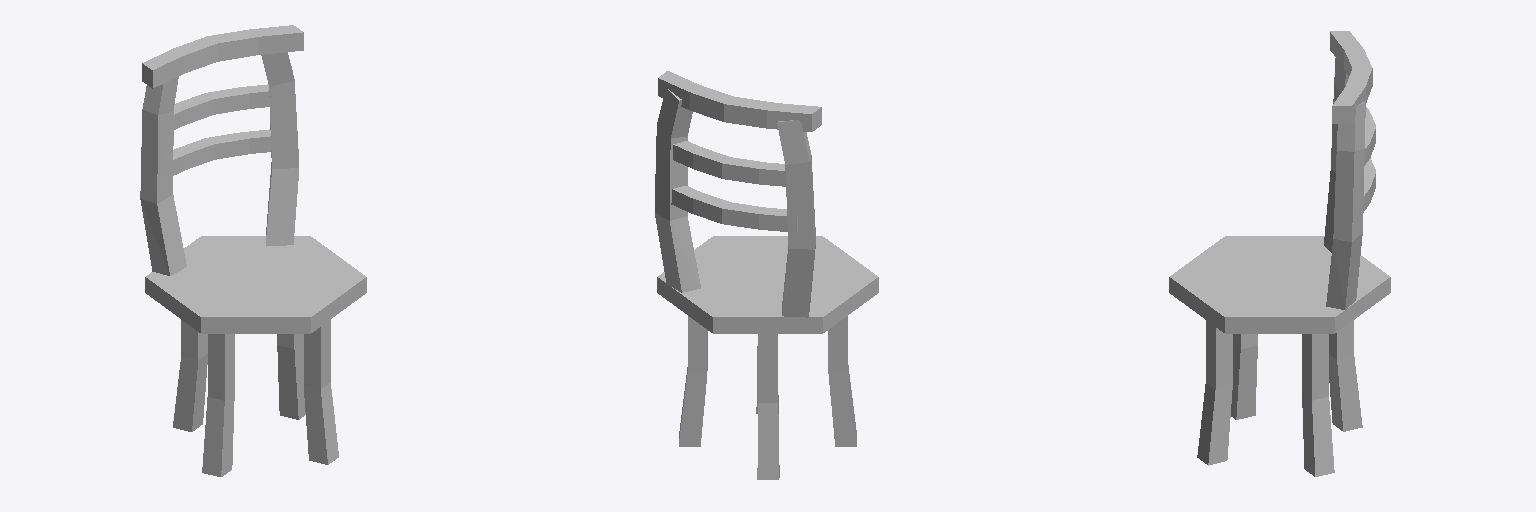
File: Chair.obj
The picture shows the model from 3 angles: view 1: azimuth 30°, elevation 25°; view 2: azimuth 150°, elevation 25°; view 3: azimuth 270°, elevation 25°; orthographic projection.
Visible parts, largest first — view 1: Chair; view 2: Chair; view 3: Chair.
Part boxes in pixels (x1,y1,x2,y2): Chair: (140,25,366,476); Chair: (655,71,878,479); Chair: (1169,31,1390,476).
Size of the model in its own units: 0.6015 by 1.29 by 0.6946.